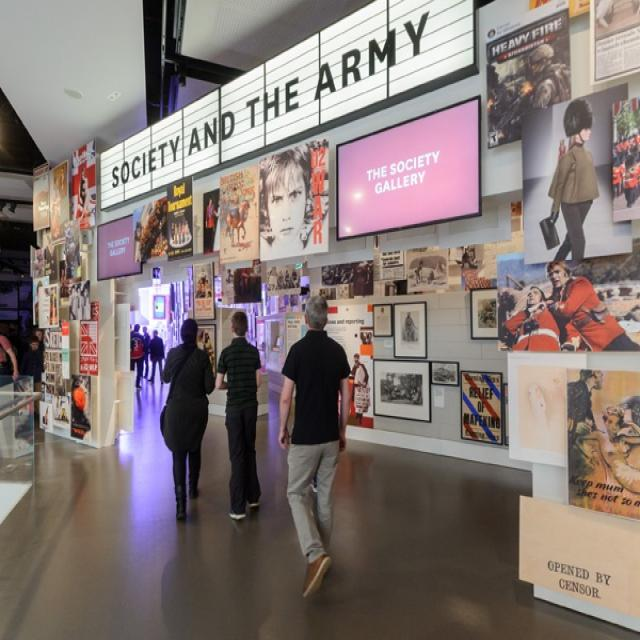body: (276, 293, 352, 603), (496, 255, 640, 352), (157, 316, 215, 524), (533, 96, 604, 256), (212, 309, 264, 524), (565, 368, 638, 521), (487, 37, 572, 139), (257, 140, 329, 256), (202, 182, 252, 254), (348, 323, 378, 425), (610, 128, 640, 211), (70, 156, 97, 232), (144, 196, 178, 256), (319, 260, 372, 295), (379, 371, 422, 404), (406, 255, 447, 288), (49, 169, 67, 236), (0, 329, 20, 387), (129, 322, 146, 390), (24, 324, 45, 379), (146, 329, 165, 387), (269, 263, 303, 289), (69, 282, 90, 322), (194, 270, 211, 318), (399, 307, 419, 345), (63, 239, 78, 284), (140, 325, 152, 380)
